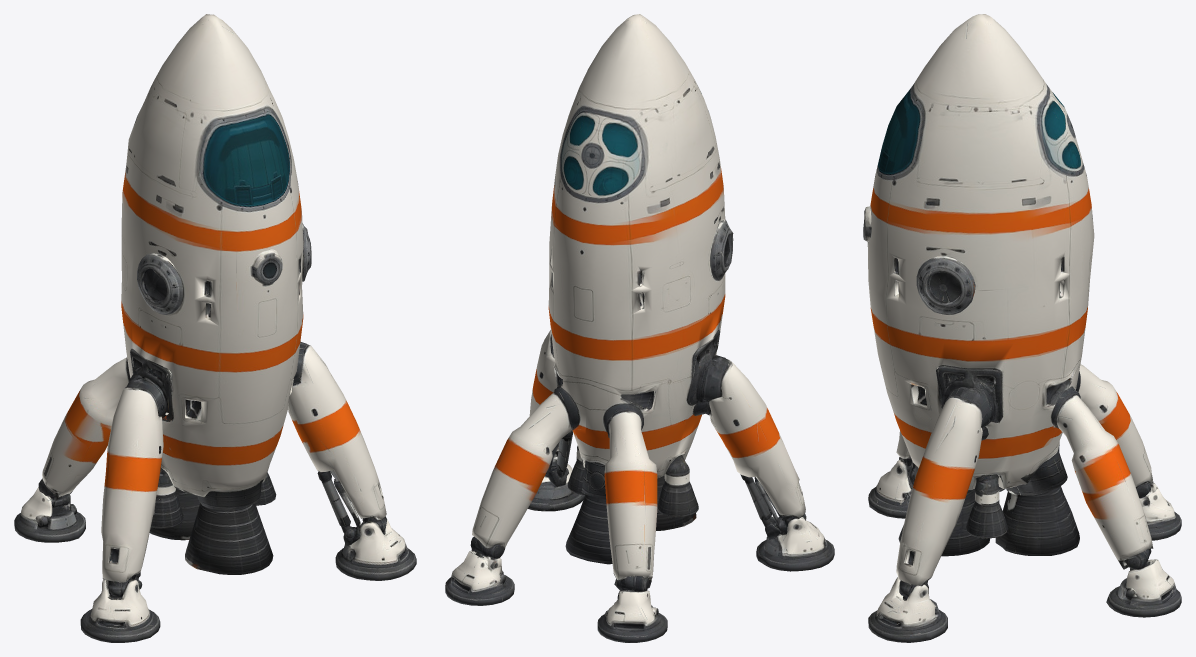
The model's file is AW-MOON-ROCKET-001-v0.2.glb.
The picture shows the model from 3 angles, left to right: view 1: azimuth 30°, elevation 25°; view 2: azimuth 150°, elevation 25°; view 3: azimuth 270°, elevation 25°; orthographic projection. The views are drawn at different scales.
Parts seen in each view (by area): view 1: AW-MOON-ROCKET-001_meter_ground_pivot; view 2: AW-MOON-ROCKET-001_meter_ground_pivot; view 3: AW-MOON-ROCKET-001_meter_ground_pivot.
Boxes of the visible parts, bbox=[...] form: AW-MOON-ROCKET-001_meter_ground_pivot: bbox=[14, 14, 416, 642]; AW-MOON-ROCKET-001_meter_ground_pivot: bbox=[445, 14, 834, 642]; AW-MOON-ROCKET-001_meter_ground_pivot: bbox=[863, 14, 1181, 642].
Size of the model in its own units: 11.07 by 18 by 9.45.
Materials: 1 (1 with a texture image).
